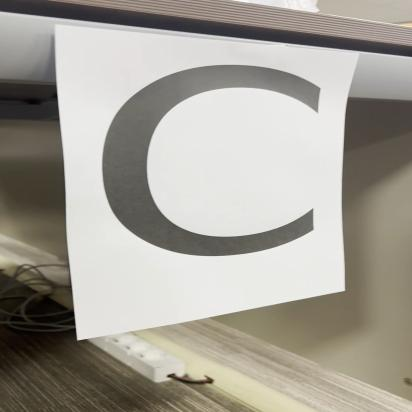seat: (68, 53, 342, 293)
